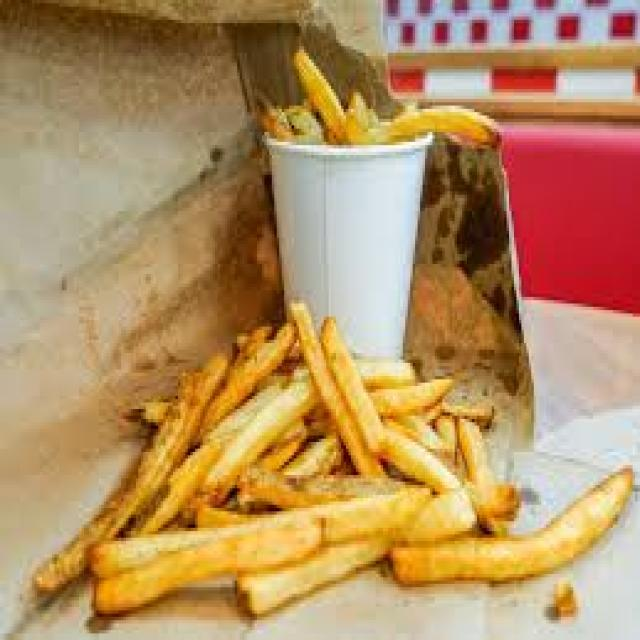감자튀김: (32, 320, 633, 617), (259, 49, 497, 363)
